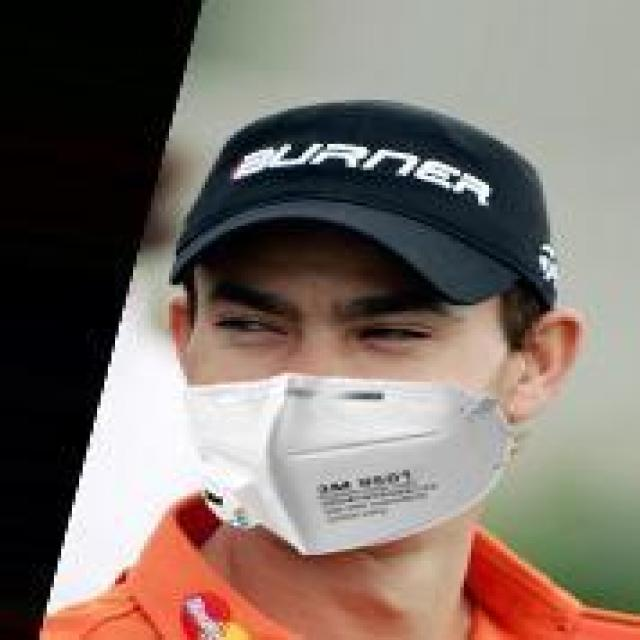mask: (140, 74, 582, 566)
